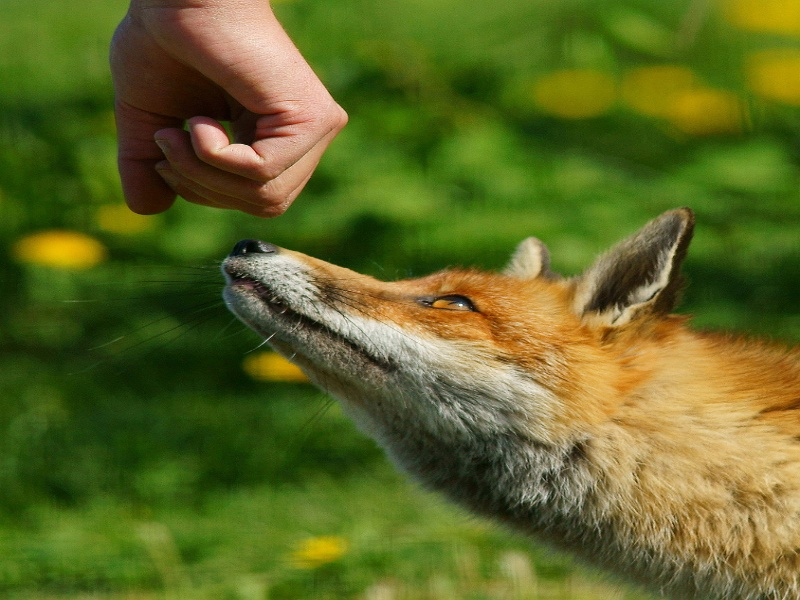fox: (220, 208, 800, 599)
